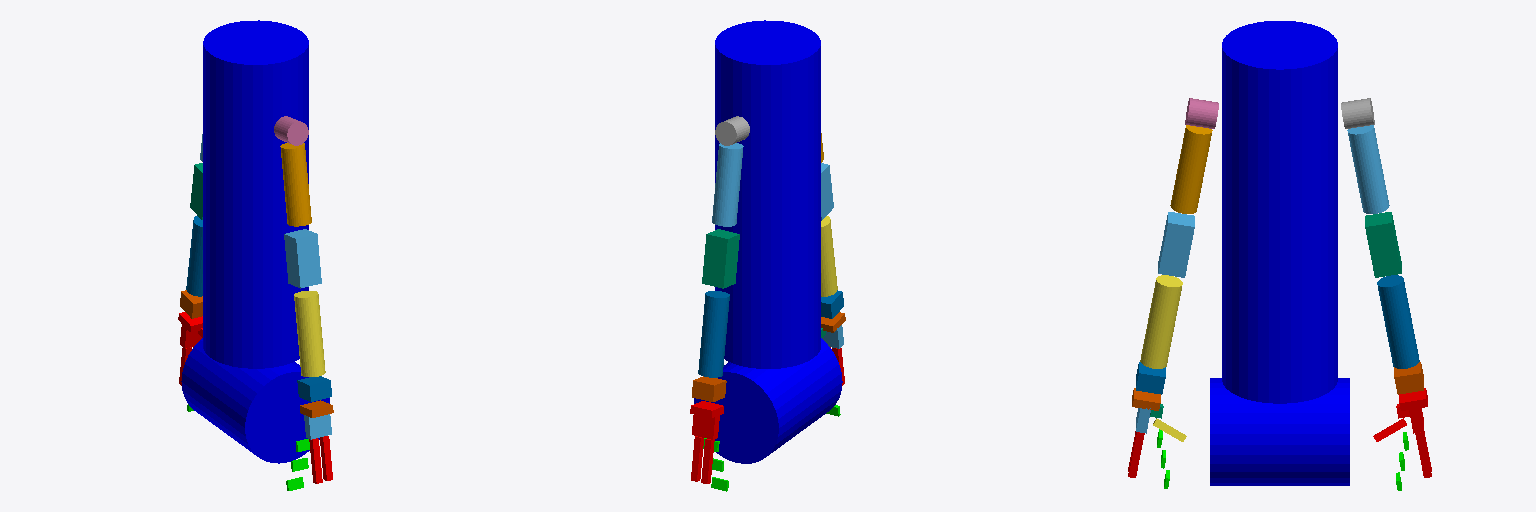
--- Facts derived from the render (not from the file) ---
Views: 3 orthographic renders of the robot side by side, from view 1: azimuth 30°, elevation 25°; view 2: azimuth 150°, elevation 25°; view 3: azimuth 270°, elevation 25°.
Model flintrobot with 55 links and 54 joints (19 revolute, 2 prismatic, 33 fixed), rooted at base_link, posed all joints at 0.
Visible links, largest first — view 1: body_link, base_link, right_forearm, right_posterior_arm, right_elbow, left_forearm, right_shoulder, right_forearm_b, right_hand, left_elbow; view 2: body_link, base_link, left_forearm, left_posterior_arm, left_elbow, right_forearm, left_shoulder, left_forearm_b, right_elbow, left_hand; view 3: body_link, base_link, right_forearm, left_forearm, right_posterior_arm, left_posterior_arm, right_elbow, left_elbow, right_shoulder, left_shoulder, right_forearm_b, left_forearm_b.
Boxes of the visible links, box(x1,y1,x2,y2) form: body_link: box(203, 20, 308, 368); base_link: box(181, 338, 329, 463); right_forearm: box(294, 291, 325, 376); right_posterior_arm: box(280, 143, 311, 226); right_elbow: box(284, 229, 321, 288); left_forearm: box(186, 216, 202, 296); right_shoulder: box(274, 116, 308, 145); right_forearm_b: box(297, 376, 331, 401); right_hand: box(304, 414, 331, 439); left_elbow: box(190, 163, 202, 219); body_link: box(715, 20, 820, 368); base_link: box(694, 338, 842, 463); left_forearm: box(698, 291, 729, 377); left_posterior_arm: box(712, 143, 743, 226); left_elbow: box(702, 229, 739, 288); right_forearm: box(821, 216, 837, 296); left_shoulder: box(715, 116, 749, 145); left_forearm_b: box(692, 376, 726, 401); right_elbow: box(821, 163, 833, 220); left_hand: box(692, 414, 719, 439); body_link: box(1222, 21, 1337, 403); base_link: box(1210, 378, 1349, 485); right_forearm: box(1140, 275, 1182, 368); left_forearm: box(1377, 275, 1419, 368); right_posterior_arm: box(1170, 125, 1212, 213); left_posterior_arm: box(1347, 125, 1389, 213); right_elbow: box(1158, 212, 1194, 277); left_elbow: box(1365, 212, 1401, 277); right_shoulder: box(1185, 98, 1218, 128); left_shoulder: box(1341, 98, 1374, 128); right_forearm_b: box(1136, 362, 1165, 394); left_forearm_b: box(1394, 362, 1423, 394).
Bounding box of the posed robot: 0.3 × 0.7817 × 1.27 m (x, y, z).
0 mesh visuals loaded from 1 distinct referenced files (none loaded); not drawn: 1 (reference not matched to a file when rendering).

The robot description file, URDF, robot "flintrobot":
<?xml version="1.0"?>
<robot name="flintrobot"> 
  <link name="base_link">
    <visual>
      <geometry>
        <cylinder length="0.36" radius="0.14"/>
      </geometry>
      <material name="blue">
        <color rgba="0.0 0.0 1.0 0.5"/>
      </material>
      <origin rpy="1.57075 0 0" xyz="0 0 0.15"/>
    </visual>
    <collision>
      <geometry>
        <cylinder length="0.36" radius="0.14"/>
      </geometry>
      <origin rpy="1.57075 0 0" xyz="0 0 0.15"/>
    </collision>
  </link>      

  <link name="body_link">
    <visual>
      <geometry>
        <cylinder length="0.95" radius="0.15"/>
      </geometry>
      <material name="blue">
        <color rgba="0.0 0.0 1.0 0.5"/>
      </material>
      <origin rpy="0 0 0" xyz="0 0 0.625"/>
    </visual>
    <collision>
      <geometry>
        <cylinder length="0.95" radius="0.15"/>
      </geometry>
      <origin rpy="0 0 0" xyz="0 0 0.625"/>
    </collision>
  </link>

  <link name="imu_link">
    <visual>
      <geometry>
        <box size="0.03 0.02 0.002"/>
      </geometry>
      <material name="green">
        <color rgba="0.0 1.0 0.0 1.0"/>
      </material>
      <origin rpy="0 0 1.5708" xyz="0 0 0"/>
    </visual>
  </link>

  <joint name="robot_roll_angle" type="fixed">
    <axis xyz="0 1 0"/>
    <origin xyz="0 0 0.15"/>
    <parent link="base_link"/>
    <child link="body_link"/>
    <limit effort="1000" lower="-0.2618" upper="0.2618" velocity="1.0"/>
  </joint>

  <joint name="imu_to_body" type="fixed">
    <axis xyz="1 0 0"/>
    <origin xyz="0 0 0.06"/>
    <parent link="body_link"/>
    <child link="imu_link"/>
  </joint>

  <link name="head_base_root"/>

  <joint name="head_base_root_joint" type="fixed">
    <origin rpy="0 0 0" xyz="0.01041 0 0.96734"/>
    <parent link="body_link"/>
    <child link="head_base_root"/>
  </joint>

  <link name="head_base_raise_joint_x"/>

  <joint name="head_base_raise_joint_x" type="prismatic">
    <origin rpy="0 0 0" xyz="0 0 0"/>
    <axis xyz="1 0 0"/>
    <limit effort="1000" lower="0.0" upper="0.07044" velocity="0.1"/>
    <parent link="head_base_root"/>
    <child link="head_base_raise_joint_x"/>
  </joint>

  <link name="head_base_raise_joint_z"/>

  <joint name="head_base_raise_joint_z" type="prismatic">
    <origin rpy="0 0 0" xyz="0 0 0"/>
    <axis xyz="0 0 1"/>
    <limit effort="1000" lower="0.0" upper="0.03792" velocity="0.1"/>
    <parent link="head_base_raise_joint_x"/>
    <child link="head_base_raise_joint_z"/>
  </joint>

  <link name="head_base_raise_joint_pitch">
    <visual>
      <geometry>
        <box size="0.04 0.04 0.01"/>
      </geometry>
      <material name="green">
        <color rgba="0.0 1.0 0.0 1.0"/>
      </material>
      <origin rpy="0 0 0" xyz="0 0 0"/>
    </visual>
  </link>

  <joint name="head_base_raise_joint_pitch" type="revolute">
    <origin rpy="0 0 0" xyz="0 0 0"/>
    <axis xyz="0 1 0"/>
    <limit effort="1000" lower="0.0" upper="0.449946" velocity="0.1"/>
    <parent link="head_base_raise_joint_z"/>
    <child link="head_base_raise_joint_pitch"/>
  </joint>

  <link name="head_joint_1">
    <visual>
      <geometry>
        <box size="0.02 0.02 0.02"/>
      </geometry>
      <material name="green">
        <color rgba="0.0 1.0 0.0 1.0"/>
      </material>
      <origin rpy="0 0 0" xyz="0 0 0"/>
    </visual>
  </link>

  <joint name="head_joint_1" type="revolute">
    <origin rpy="0 0 0" xyz="0 0 0"/>
    <axis xyz="0 0 1"/>
    <limit effort="1000" lower="-0.7854" upper="0.7854" velocity="0.1"/>
    <parent link="head_base_raise_joint_pitch"/>
    <child link="head_joint_1"/>
  </joint>

  <link name="head_joint_2">
    <visual>
      <geometry>
        <box size="0.02 0.02 0.02"/>
      </geometry>
      <material name="green">
        <color rgba="0.0 1.0 0.0 1.0"/>
      </material>
      <origin rpy="0 0 0" xyz="0 0 0"/>
    </visual>
  </link>

  <joint name="head_joint_2" type="revolute">
    <origin rpy="0 0 0" xyz="0 0 0.063"/>
    <axis xyz="0 1 0"/>
    <limit effort="1000" lower="-0.3491" upper="0.7854" velocity="0.1"/>
    <parent link="head_joint_1"/>
    <child link="head_joint_2"/>
  </joint>

  <!-- <link name="camera_base">
    <visual>
      <geometry>
        <box size="0.02 0.18 0.02"/>
      </geometry>
      <origin rpy="0 0 0" xyz="0 0 0"/>
    </visual>
  </link>

  <joint name="head_joint_3" type="revolute">
    <origin rpy="0 0 0" xyz="0.065 0.0 0"/>
    <axis xyz="1 0 0"/>
    <limit effort="1000" lower="-0.3491" upper="0.3491" velocity="0.1"/>
    <parent link="head_joint_2"/>
    <child link="camera_base"/>
  </joint>

  <link name="left_eye">
    <visual>
      <geometry>
        <cylinder length="0.02" radius="0.01"/>
      </geometry>
      <material name="green">
        <color rgba="0.0 1.0 0.0 1.0"/>
      </material>
      <origin rpy="0 0 0" xyz="0.0 0.0 0.002"/>
    </visual>
  </link>

  <joint name="head_to_left_eye" type="fixed">
    <origin rpy="-1.5708 0 -1.5708" xyz="0.0 0.06 0.0"/>
    <parent link="camera_base"/>
    <child link="left_eye"/>
  </joint>

  <link name="right_eye">
    <visual>
      <geometry>
        <cylinder length="0.02" radius="0.01"/>
      </geometry>
      <material name="green">
        <color rgba="0.0 1.0 0.0 1.0"/>
      </material>
      <origin rpy="0 0 0" xyz="0.0 0.0 0.002"/>
    </visual>
  </link>

  <joint name="head_to_right_eye" type="fixed">
    <origin rpy="-1.5708 0 -1.5708" xyz="0.0 -0.06 0.0"/>
    <parent link="camera_base"/>
    <child link="right_eye"/>
  </joint> -->

  <!-- Camera Center -->
  <!-- <link name="zed_camera_center">
    <visual>
      <origin rpy="-1.5707963267948966 0 0" xyz="0.0 0 0.0"/>
      <geometry>
        <mesh filename="package://zed_msgs/meshes/zed2.stl"/>
      </geometry>
    </visual>
  </link> -->
  <link name="zed_camera_center_mock"/>
  <link name="zed_camera_link"/>
  <joint name="zed_camera_center_joint_mock" type="fixed">
    <child link="zed_camera_link"/>
    <parent link="zed_camera_center_mock"/>
    <origin rpy="0 -0.05 0" xyz="0 0 -0.015"/>
  </joint>
  <link name="zed_camera_center">
    <visual>
      <origin rpy="-1.5707963267948966 0 0" xyz="0.0 0 0.0"/>
      <geometry>
        <mesh filename="package://zed_msgs/meshes/zed2.stl"/>
      </geometry>
    </visual>
  </link>
  <joint name="zed_camera_center_joint" type="fixed">
    <child link="zed_camera_center"/>
    <parent link="zed_camera_link"/>
    <origin rpy="0 0.05 0" xyz="0 0 0.015"/>
  </joint>
  <!-- Left Camera -->
  <link name="zed_left_camera_frame">
  </link>
  <joint name="zed_left_camera_joint" type="fixed">
    <parent link="zed_camera_center"/>
    <child link="zed_left_camera_frame"/>
    <origin rpy="0 0 0" xyz="-0.01 0.06 0"/>
  </joint>
  <link name="zed_left_camera_optical_frame"/>
  <joint name="zed_left_camera_optical_joint" type="fixed">
    <origin rpy="-1.5707963267948966 0.0 -1.5707963267948966" xyz="0 0 0"/>
    <parent link="zed_left_camera_frame"/>
    <child link="zed_left_camera_optical_frame"/>
  </joint>
  <!-- Right Camera -->
  <link name="zed_right_camera_frame">
  </link>
  <joint name="zed_right_camera_joint" type="fixed">
    <parent link="zed_camera_center"/>
    <child link="zed_right_camera_frame"/>
    <origin rpy="0 0 0" xyz="-0.01 -0.06 0"/>
  </joint>
  <link name="zed_right_camera_optical_frame"/>
  <joint name="zed_right_camera_optical_joint" type="fixed">
    <origin rpy="-1.5707963267948966 0.0 -1.5707963267948966" xyz="0 0 0"/>
    <parent link="zed_right_camera_frame"/>
    <child link="zed_right_camera_optical_frame"/>
  </joint>
  <link name="zed_mag_link"/>
  <joint name="zed_mag_joint" type="fixed">
    <parent link="zed_camera_center"/>
    <child link="zed_mag_link"/>
    <origin rpy="0 0 0" xyz="0 0 0"/>
  </joint>
  <link name="zed_baro_link"/>
  <joint name="zed_baro_joint" type="fixed">
    <parent link="zed_camera_center"/>
    <child link="zed_baro_link"/>
    <origin rpy="0 0 0" xyz="0 0 0"/>
  </joint>
  <link name="zed_temp_left_link"/>
  <joint name="zed_temp_left_joint" type="fixed">
    <parent link="zed_left_camera_frame"/>
    <child link="zed_temp_left_link"/>
    <origin rpy="0 0 0" xyz="0 0 0"/>
  </joint>
  <link name="zed_temp_right_link"/>
  <joint name="zed_temp_right_joint" type="fixed">
    <parent link="zed_right_camera_frame"/>
    <child link="zed_temp_right_link"/>
    <origin rpy="0 0 0" xyz="0 0 0"/>
  </joint>

  <link name="zed_imu_link"/>
  <joint name="left_camera_to_imu" type="fixed">
    <parent link="zed_left_camera_frame"/>
    <child link="zed_imu_link"/>
  <origin xyz="-0.002 -0.023061 0.000217" rpy="0.09 0.29 -0.23"/>
  </joint>

  <joint name="head_joint_3" type="revolute">
    <origin rpy="0 0 0" xyz="0.065 0.0 0"/>
    <axis xyz="1 0 0"/>
    <limit effort="1000" lower="-0.3491" upper="0.3491" velocity="0.1"/>
    <parent link="head_joint_2"/>
    <child link="zed_camera_center_mock"/>
  </joint>

  <link name="right_shoulder_root"/>

  <joint name="right_shoulder_fixed_angle" type="fixed">
    <origin rpy="-0.17453 0 0" xyz="0 -0.116 0.89"/>
    <parent link="body_link"/>
    <child link="right_shoulder_root"/>
  </joint>

  <link name="right_shoulder">
    <visual>
      <geometry>
        <cylinder length="0.076" radius="0.035"/>
      </geometry>
      <origin rpy="1.57075 0 0" xyz="0 0 0"/>
    </visual>
    <collision>
      <geometry>
        <cylinder length="0.076" radius="0.035"/>
      </geometry>
      <origin rpy="1.57075 0 0" xyz="0 0 0"/>
    </collision>
  </link>

  <joint name="joint0" type="revolute">
    <axis xyz="0 1 0"/>
    <origin xyz="0 -0.086 0"/>
    <parent link="right_shoulder_root"/>
    <child link="right_shoulder"/>
    <limit effort="1000" lower="-3.1415926" upper="3.1415926" velocity="1.0"/>
  </joint>

  <link name="right_posterior_arm_root">
  </link>

  <joint name="joint1" type="revolute">
    <axis xyz="1 0 0"/>
    <origin xyz="0 0 0"/>
    <parent link="right_shoulder"/>
    <child link="right_posterior_arm_root"/>
    <limit effort="1000" lower="-1.5708" upper="0.1745" velocity="1.0"/>
  </joint>

  <link name="right_posterior_arm">
    <visual>
      <geometry>
        <cylinder length="0.23" radius="0.035"/>
      </geometry>
      <origin rpy="0 0 0" xyz="0 0 -0.0725"/>
    </visual>
    <collision>
      <geometry>
        <cylinder length="0.23" radius="0.035"/>
      </geometry>
      <origin rpy="0 0 0" xyz="0 0 -0.0725"/>
    </collision>
  </link>

  <joint name="joint2" type="revolute">
    <axis xyz="0 0 1"/>
    <origin xyz="0 0 -0.085"/>
    <parent link="right_posterior_arm_root"/>
    <child link="right_posterior_arm"/>
    <limit effort="1000" lower="-3.1415926" upper="3.1415926" velocity="1.0"/>
  </joint>

  <link name="right_elbow">
    <visual>
      <geometry>
        <box size="0.07 0.07 0.147"/>
      </geometry>
      <origin rpy="0 0 0" xyz="0 0 -0.0735"/>
    </visual>
    <collision>
      <geometry>
        <box size="0.07 0.07 0.147"/>
      </geometry>
      <origin rpy="0 0 0" xyz="0 0 -0.0735"/>
    </collision>
  </link>

  <joint name="joint3" type="revolute">
    <axis xyz="0 1 0"/>
    <origin xyz="0 0 -0.22"/>
    <parent link="right_posterior_arm"/>
    <child link="right_elbow"/>
    <limit effort="1000" lower="-1.5708" upper="0.0" velocity="1.0"/>
  </joint>

  <link name="right_forearm_root">
  </link>

  <joint name="joint4" type="revolute">
    <axis xyz="0 1 0"/>
    <origin xyz="0 0 -0.147"/>
    <parent link="right_elbow"/>
    <child link="right_forearm_root"/>
    <limit effort="1000" lower="-1.5708" upper="0.0" velocity="1.0"/>
  </joint>

  <link name="right_forearm">
    <visual>
      <geometry>
        <cylinder length="0.236" radius="0.035"/>
      </geometry>
      <origin rpy="0 0 0" xyz="0 0 -0.033"/>
    </visual>
    <collision>
      <geometry>
        <cylinder length="0.236" radius="0.035"/>
      </geometry>
      <origin rpy="0 0 0" xyz="0 0 -0.033"/>
    </collision>
  </link>

  <joint name="joint5" type="revolute">
    <axis xyz="0 0 1"/>
    <origin xyz="0 0 -0.11678"/>
    <parent link="right_forearm_root"/>
    <child link="right_forearm"/>
    <limit effort="1000" lower="-3.1415926" upper="3.1415926" velocity="1.0"/>
  </joint>

  <link name="right_forearm_b">
    <visual>
      <geometry>
        <box size="0.07 0.07 0.05"/>
      </geometry>
      <origin rpy="0 0 0" xyz="0 0 0.005"/>
    </visual>
    <collision>
      <geometry>
        <box size="0.07 0.07 0.05"/>
      </geometry>
      <origin rpy="0 0 0" xyz="0 0 0.005"/>
    </collision>
  </link>

  <joint name="joint6" type="revolute">
    <axis xyz="0 1 0"/>
    <origin xyz="0 0 -0.2"/>
    <parent link="right_forearm"/>
    <child link="right_forearm_b"/>
    <limit effort="1000" lower="-0.5236" upper="0.5236" velocity="1.0"/>
  </joint>

  <link name="right_wrist">
    <visual>
      <geometry>
        <box size="0.07 0.07 0.023"/>
      </geometry>
      <origin rpy="0 0 0" xyz="0 0 -0.0115"/>
    </visual>
    <collision>
      <geometry>
        <box size="0.07 0.07 0.023"/>
      </geometry>
      <origin rpy="0 0 0" xyz="0 0 -0.0115"/>
    </collision>
  </link>

  <joint name="joint7" type="revolute">
    <axis xyz="1 0 0"/>
    <origin xyz="0 0 -0.04472"/>
    <parent link="right_forearm_b"/>
    <child link="right_wrist"/>
    <limit effort="1000" lower="-0.7854" upper="0.7854" velocity="1.0"/>
  </joint>

  <link name="right_grasp_center">
    <visual>
      <geometry>
        <box size="0.03 0.01 0.05"/>
      </geometry>
      <material name="green">
        <color rgba="0.0 1.0 0.0 1.0"/>
      </material>
      <origin rpy="0 0 0" xyz="0 0 0"/>
    </visual>
  </link>

  <joint name="right_wrists_to_grasp_center" type="fixed">
    <parent link="right_wrist"/>
    <child link="right_grasp_center"/>
    <origin rpy="0 1.5708 0" xyz="-0.02 0.055 -0.125"/>
  </joint>

  <link name="right_grasp_prepare_2">
    <visual>
      <geometry>
        <box size="0.03 0.01 0.05"/>
      </geometry>
      <material name="green">
        <color rgba="0.0 1.0 0.0 1.0"/>
      </material>
      <origin rpy="0 0 0" xyz="0 0 0"/>
    </visual>
  </link>

  <joint name="right_grasp_center_to_grasp_prepare_2" type="fixed">
    <parent link="right_grasp_center"/>
    <child link="right_grasp_prepare_2"/>
    <origin rpy="0 0 0" xyz="0.06 0.02 -0.01"/>
  </joint>

  <link name="right_grasp_prepare">
    <visual>
      <geometry>
        <box size="0.03 0.01 0.05"/>
      </geometry>
      <material name="green">
        <color rgba="0.0 1.0 0.0 1.0"/>
      </material>
      <origin rpy="0 0 0" xyz="0 0 0"/>
    </visual>
  </link>

  <joint name="right_grasp_center_to_grasp_prepare" type="fixed">
    <parent link="right_grasp_center"/>
    <child link="right_grasp_prepare"/>
    <origin rpy="0 0 0" xyz="0.12 0.04 -0.02"/>
  </joint>

  <link name="right_hand">
    <visual>
      <geometry>
        <box size="0.07 0.028 0.072"/>
      </geometry>
      <origin rpy="0 0 0" xyz="0 0 -0.055"/>
    </visual>
    <collision>
      <geometry>
        <box size="0.07 0.028 0.072"/>
      </geometry>
      <origin rpy="0 0 0" xyz="0 0 -0.055"/>
    </collision>
  </link>

  <joint name="wrist_to_hand" type="fixed">
    <parent link="right_wrist"/>
    <child link="right_hand"/>
  </joint>

  <link name="right_hand2">
    <visual>
      <geometry>
        <box size="0.03 0.03 0.03"/>
      </geometry>
      <origin rpy="0 -0.087 0" xyz="0.016 0.03 -0.03"/>
    </visual>
    <collision>
      <geometry>
        <box size="0.03 0.03 0.03"/>
      </geometry>
      <origin rpy="0 -0.087 0" xyz="0.016 0.03 -0.03"/>
    </collision>
  </link>

  <joint name="wrist_to_hand2" type="fixed">
    <parent link="right_wrist"/>
    <child link="right_hand2"/>
    <origin rpy="0 0 0" xyz="0 0 0"/>
  </joint>

  <link name="right_finger1">
    <visual>
      <geometry>
        <box size="0.02 0.09 0.02"/>
      </geometry>
      <origin rpy="-0.72558 1.04635 -0.797603" xyz="0.028 0.072 -0.075"/>
    </visual>
    <collision>
      <geometry>
        <box size="0.02 0.09 0.02"/>
      </geometry>
      <origin rpy="-0.72558 1.04635 -0.797603" xyz="0.028 0.072 -0.075"/>
    </collision>
  </link>

  <joint name="wrists_to_finger1" type="fixed">
    <parent link="right_wrist"/>
    <child link="right_finger1"/>
    <origin rpy="0 0 0" xyz="0 0 0"/>
  </joint>

  <link name="right_finger2">
    <visual>
      <geometry>
        <box size="0.02 0.02 0.13"/>
      </geometry>
      <material name="red">
        <color rgba="1.0 0.0 0.0 0.5"/>
      </material>
      <origin rpy="0 0 0" xyz="0.017 0 -0.16"/>
    </visual>
    <collision>
      <geometry>
        <box size="0.02 0.02 0.13"/>
      </geometry>
      <origin rpy="0 0 0" xyz="0.017 0 -0.16"/>
    </collision>
  </link>

  <joint name="wrists_to_finger2" type="fixed">
    <parent link="right_wrist"/>
    <child link="right_finger2"/>
    <origin rpy="0 0 0" xyz="0 0 0"/>
  </joint>

  <link name="right_finger3">
    <visual>
      <geometry>
        <box size="0.02 0.02 0.13"/>
      </geometry>
      <material name="red">
        <color rgba="1.0 0.0 0.0 0.5"/>
      </material>
      <origin rpy="0 0 0" xyz="-0.017 0 -0.16"/>
    </visual>
    <collision>
      <geometry>
        <box size="0.02 0.02 0.13"/>
      </geometry>
      <origin rpy="0 0 0" xyz="-0.017 0 -0.16"/>
    </collision>
  </link>

  <joint name="wrists_to_finger3" type="fixed">
    <parent link="right_wrist"/>
    <child link="right_finger3"/>
    <origin rpy="0 0 0" xyz="0 0 0"/>
  </joint>

  <link name="left_shoulder_root">
  </link>

  <joint name="left_shoulder_fixed_angle" type="fixed">
    <origin rpy="0.17453 0 0" xyz="0 0.116 0.89"/>
    <parent link="body_link"/>
    <child link="left_shoulder_root"/>
  </joint>

  <link name="left_shoulder">
    <visual>
      <geometry>
        <cylinder length="0.076" radius="0.035"/>
      </geometry>
      <origin rpy="1.57075 0 0" xyz="0 0 0"/>
    </visual>
    <collision>
      <geometry>
        <cylinder length="0.076" radius="0.035"/>
      </geometry>
      <origin rpy="1.57075 0 0" xyz="0 0 0"/>
    </collision>
  </link>

  <joint name="joint0b" type="revolute">
    <axis xyz="0 1 0"/>
    <origin xyz="0 0.086 0"/>
    <parent link="left_shoulder_root"/>
    <child link="left_shoulder"/>
    <limit effort="1000" lower="-3.1415926" upper="3.1415926" velocity="1.0"/>
  </joint>

  <link name="left_posterior_arm_root">
  </link>

  <joint name="joint1b" type="revolute">
    <axis xyz="1 0 0"/>
    <origin xyz="0 0 0"/>
    <parent link="left_shoulder"/>
    <child link="left_posterior_arm_root"/>
    <limit effort="1000" lower="-0.1745" upper="1.5708" velocity="1.0"/>
  </joint>

  <link name="left_posterior_arm">
    <visual>
      <geometry>
        <cylinder length="0.23" radius="0.035"/>
      </geometry>
      <origin rpy="0 0 0" xyz="0 0 -0.0725"/>
    </visual>
    <collision>
      <geometry>
        <cylinder length="0.23" radius="0.035"/>
      </geometry>
      <origin rpy="0 0 0" xyz="0 0 -0.0725"/>
    </collision>
  </link>

  <joint name="joint2b" type="revolute">
    <axis xyz="0 0 1"/>
    <origin xyz="0 0 -0.085"/>
    <parent link="left_posterior_arm_root"/>
    <child link="left_posterior_arm"/>
    <limit effort="1000" lower="-3.1415926" upper="3.1415926" velocity="1.0"/>
  </joint>

  <link name="left_elbow">
    <visual>
      <geometry>
        <box size="0.07 0.07 0.147"/>
      </geometry>
      <origin rpy="0 0 0" xyz="0 0 -0.0735"/>
    </visual>
    <collision>
      <geometry>
        <box size="0.07 0.07 0.147"/>
      </geometry>
      <origin rpy="0 0 0" xyz="0 0 -0.0735"/>
    </collision>
  </link>

  <joint name="joint3b" type="revolute">
    <axis xyz="0 1 0"/>
    <origin xyz="0 0 -0.22"/>
    <parent link="left_posterior_arm"/>
    <child link="left_elbow"/>
    <limit effort="1000" lower="-1.5708" upper="0.0" velocity="1.0"/>
  </joint>

  <link name="left_forearm_root">
  </link>

  <joint name="joint4b" type="revolute">
    <axis xyz="0 1 0"/>
    <origin xyz="0 0 -0.147"/>
    <parent link="left_elbow"/>
    <child link="left_forearm_root"/>
    <limit effort="1000" lower="-1.5708" upper="0.0" velocity="1.0"/>
  </joint>

  <link name="left_forearm">
    <visual>
      <geometry>
        <cylinder length="0.236" radius="0.035"/>
      </geometry>
      <origin rpy="0 0 0" xyz="0 0 -0.033"/>
    </visual>
    <collision>
      <geometry>
        <cylinder length="0.236" radius="0.035"/>
      </geometry>
      <origin rpy="0 0 0" xyz="0 0 -0.033"/>
    </collision>
  </link>

  <joint name="joint5b" type="revolute">
    <axis xyz="0 0 1"/>
    <origin xyz="0 0 -0.11678"/>
    <parent link="left_forearm_root"/>
    <child link="left_forearm"/>
    <limit effort="1000" lower="-3.1415926" upper="3.1415926" velocity="1.0"/>
  </joint>

  <link name="left_forearm_b">
    <visual>
      <geometry>
        <box size="0.07 0.07 0.05"/>
      </geometry>
      <origin rpy="0 0 0" xyz="0 0 0.005"/>
    </visual>
    <collision>
      <geometry>
        <box size="0.07 0.07 0.05"/>
      </geometry>
      <origin rpy="0 0 0" xyz="0 0 0.005"/>
    </collision>
  </link>

  <joint name="joint6b" type="fixed">
    <axis xyz="0 1 0"/>
    <origin xyz="0 0 -0.2"/>
    <parent link="left_forearm"/>
    <child link="left_forearm_b"/>
    <limit effort="1000" lower="-0.5236" upper="0.5236" velocity="1.0"/>
  </joint>

  <link name="left_wrist">
    <visual>
      <geometry>
        <box size="0.07 0.07 0.023"/>
      </geometry>
      <material name="red">
        <color rgba="1.0 0.0 0.0 0.5"/>
      </material>
      <origin rpy="0 0 0" xyz="0 0 -0.0115"/>
    </visual>
    <collision>
      <geometry>
        <box size="0.07 0.07 0.023"/>
      </geometry>
      <origin rpy="0 0 0" xyz="0 0 -0.0115"/>
    </collision>
  </link>

  <joint name="joint7b" type="revolute">
    <axis xyz="1 0 0"/>
    <origin xyz="0 0 -0.04472"/>
    <parent link="left_forearm_b"/>
    <child link="left_wrist"/>
    <limit effort="1000" lower="-0.7854" upper="0.7854" velocity="1.0"/>
  </joint>

  <link name="left_grasp_center">
    <visual>
      <geometry>
        <box size="0.03 0.01 0.05"/>
      </geometry>
      <material name="green">
        <color rgba="0.0 1.0 0.0 1.0"/>
      </material>
      <origin rpy="0 0 0" xyz="0 0 0"/>
    </visual>
  </link>

  <joint name="left_wrists_to_grasp_center" type="fixed">
    <parent link="left_wrist"/>
    <child link="left_grasp_center"/>
    <origin rpy="0 1.5708 0" xyz="0.0 -0.04 -0.125"/>
  </joint>

  <link name="left_grasp_prepare_2">
    <visual>
      <geometry>
        <box size="0.03 0.01 0.05"/>
      </geometry>
      <material name="green">
        <color rgba="0.0 1.0 0.0 1.0"/>
      </material>
      <origin rpy="0 0 0" xyz="0 0 0"/>
    </visual>
  </link>

  <joint name="left_grasp_center_to_grasp_prepare_2" type="fixed">
    <parent link="left_grasp_center"/>
    <child link="left_grasp_prepare_2"/>
    <origin rpy="0 0 0" xyz="0.06 -0.02 -0.01"/>
  </joint>

  <link name="left_grasp_prepare">
    <visual>
      <geometry>
        <box size="0.03 0.01 0.05"/>
      </geometry>
      <material name="green">
        <color rgba="0.0 1.0 0.0 1.0"/>
      </material>
      <origin rpy="0 0 0" xyz="0 0 0"/>
    </visual>
  </link>

  <joint name="left_grasp_center_to_grasp_prepare" type="fixed">
    <parent link="left_grasp_center"/>
    <child link="left_grasp_prepare"/>
    <origin rpy="0 0 0" xyz="0.12 -0.04 -0.02"/>
  </joint>

  <link name="left_hand">
    <visual>
      <geometry>
        <box size="0.07 0.028 0.072"/>
      </geometry>
      <material name="red">
        <color rgba="1.0 0.0 0.0 0.5"/>
      </material>
      <origin rpy="0 0 0" xyz="0 0 -0.055"/>
    </visual>
    <collision>
      <geometry>
        <box size="0.07 0.028 0.072"/>
      </geometry>
      <origin rpy="0 0 0" xyz="0 0 -0.055"/>
    </collision>
  </link>

  <joint name="left_wrist_to_hand" type="fixed">
    <parent link="left_wrist"/>
    <child link="left_hand"/>
  </joint>

  <link name="left_hand2">
    <visual>
      <geometry>
        <box size="0.03 0.03 0.03"/>
      </geometry>
      <material name="red">
        <color rgba="1.0 0.0 0.0 0.5"/>
      </material>
      <origin rpy="0 -0.087 0" xyz="0.016 -0.03 -0.03"/>
    </visual>
    <collision>
      <geometry>
        <box size="0.03 0.03 0.03"/>
      </geometry>
      <origin rpy="0 -0.087 0" xyz="0.016 -0.03 -0.03"/>
    </collision>
  </link>

  <joint name="left_wrist_to_hand2" type="fixed">
    <parent link="left_wrist"/>
    <child link="left_hand2"/>
    <origin rpy="0 0 0" xyz="0 0 0"/>
  </joint>

  <link name="left_finger1">
    <visual>
      <geometry>
        <box size="0.02 0.09 0.02"/>
      </geometry>
      <material name="red">
        <color rgba="1.0 0.0 0.0 0.5"/>
      </material>
      <origin rpy="2.416011 -1.04635 -2.34399" xyz="0.028 -0.072 -0.075"/>
    </visual>
    <collision>
      <geometry>
        <box size="0.02 0.09 0.02"/>
      </geometry>
      <origin rpy="2.416011 -1.04635 -2.34399" xyz="0.028 -0.072 -0.075"/>
    </collision>
  </link>

  <joint name="left_wrists_to_finger1" type="fixed">
    <parent link="left_wrist"/>
    <child link="left_finger1"/>
    <origin rpy="0 0 0" xyz="0 0 0"/>
  </joint>

  <link name="left_finger2">
    <visual>
      <geometry>
        <box size="0.02 0.02 0.13"/>
      </geometry>
      <material name="red">
        <color rgba="1.0 0.0 0.0 0.5"/>
      </material>
      <origin rpy="0 0 0" xyz="0.017 0 -0.16"/>
    </visual>
    <collision>
      <geometry>
        <box size="0.02 0.02 0.13"/>
      </geometry>
      <origin rpy="0 0 0" xyz="0.017 0 -0.16"/>
    </collision>
  </link>

  <joint name="left_wrists_to_finger2" type="fixed">
    <parent link="left_wrist"/>
    <child link="left_finger2"/>
    <origin rpy="0 0 0" xyz="0 0 0"/>
  </joint>

  <link name="left_finger3">
    <visual>
      <geometry>
        <box size="0.02 0.02 0.13"/>
      </geometry>
      <material name="red">
        <color rgba="1.0 0.0 0.0 0.5"/>
      </material>
      <origin rpy="0 0 0" xyz="-0.017 0 -0.16"/>
    </visual>
    <collision>
      <geometry>
        <box size="0.02 0.02 0.13"/>
      </geometry>
      <origin rpy="0 0 0" xyz="-0.017 0 -0.16"/>
    </collision>
  </link>

  <joint name="left_wrists_to_finger3" type="fixed">
    <parent link="left_wrist"/>
    <child link="left_finger3"/>
    <origin rpy="0 0 0" xyz="0 0 0"/>
  </joint>

</robot>
